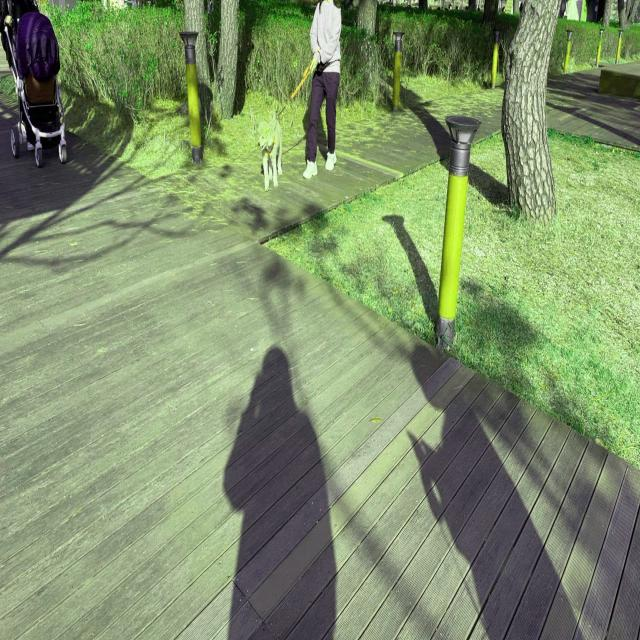Leashed_Dog: (258, 62, 340, 192)
